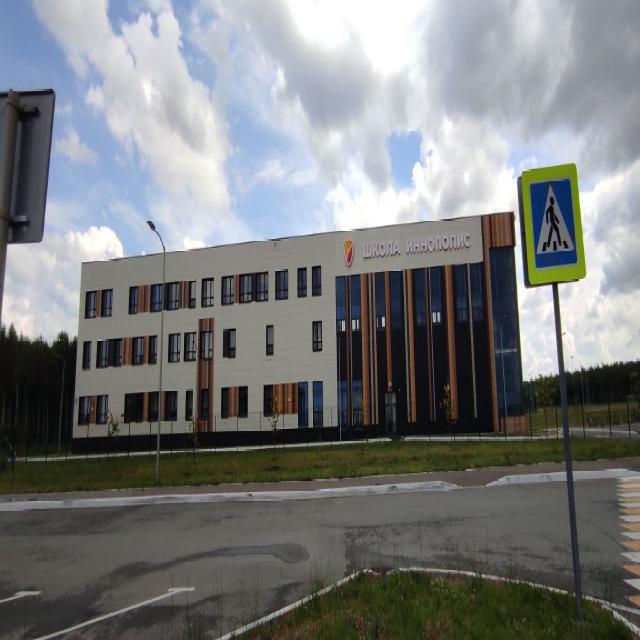Building: (73, 211, 527, 447)
